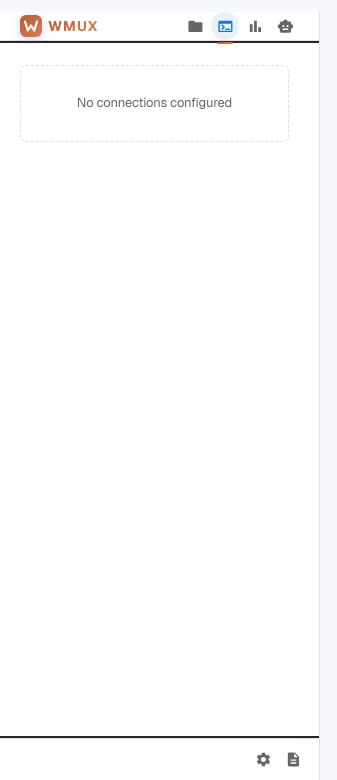
it: Projects view › duplicate project name shows error
The width and height of the screenshot is (337, 780).
Click the button with test id "open-projects-button": coordinates (195, 26) left=181, top=12, right=209, bottom=40
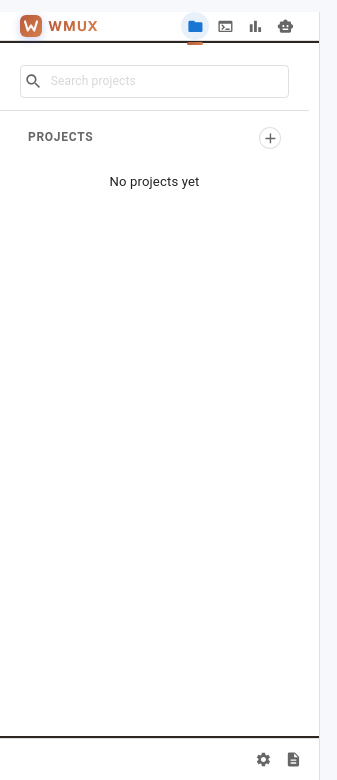
expect the text "No projects yet" is shown: met, box left=110, top=174, right=200, bottom=189
Click the button with test id "projects-add-button": coordinates (270, 138) left=259, top=127, right=281, bottom=149
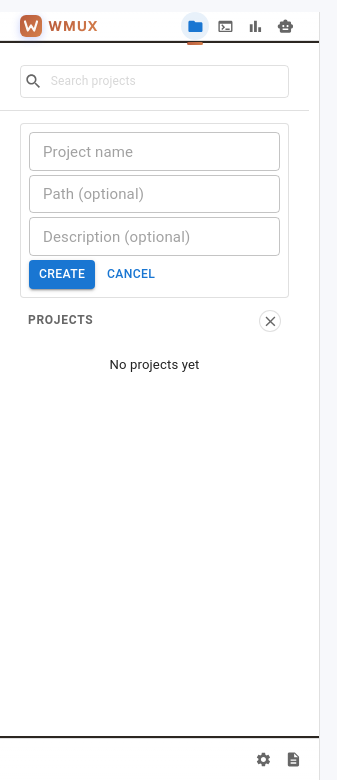
In the field with placeholder "Project name": coordinates (154, 152) left=29, top=132, right=280, bottom=171, type "dup"
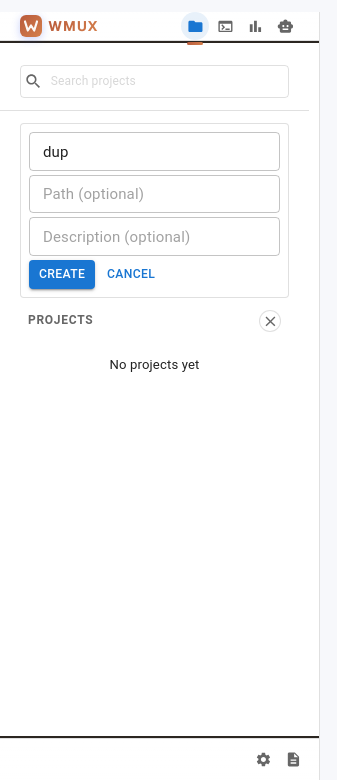
Click the button with test id "project-submit-button": coordinates (62, 275) left=29, top=260, right=95, bottom=289
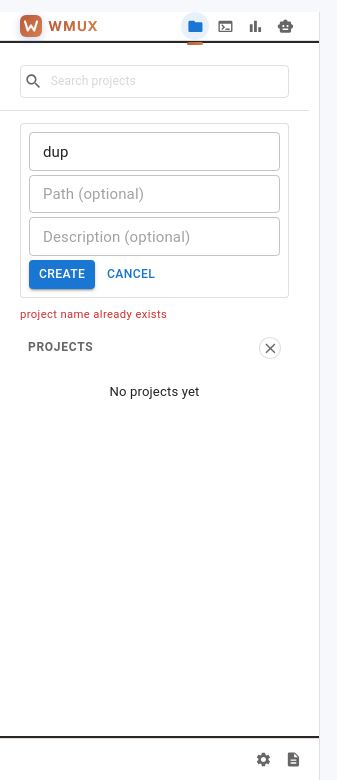
expect the text "project name already exists" is shown: met, box left=20, top=308, right=167, bottom=321
